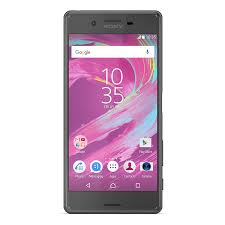sony: (63, 8, 165, 214)
